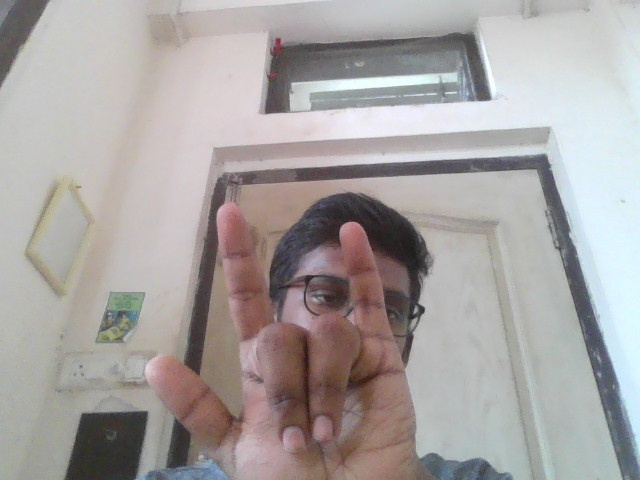I Love You: (142, 196, 440, 480)
